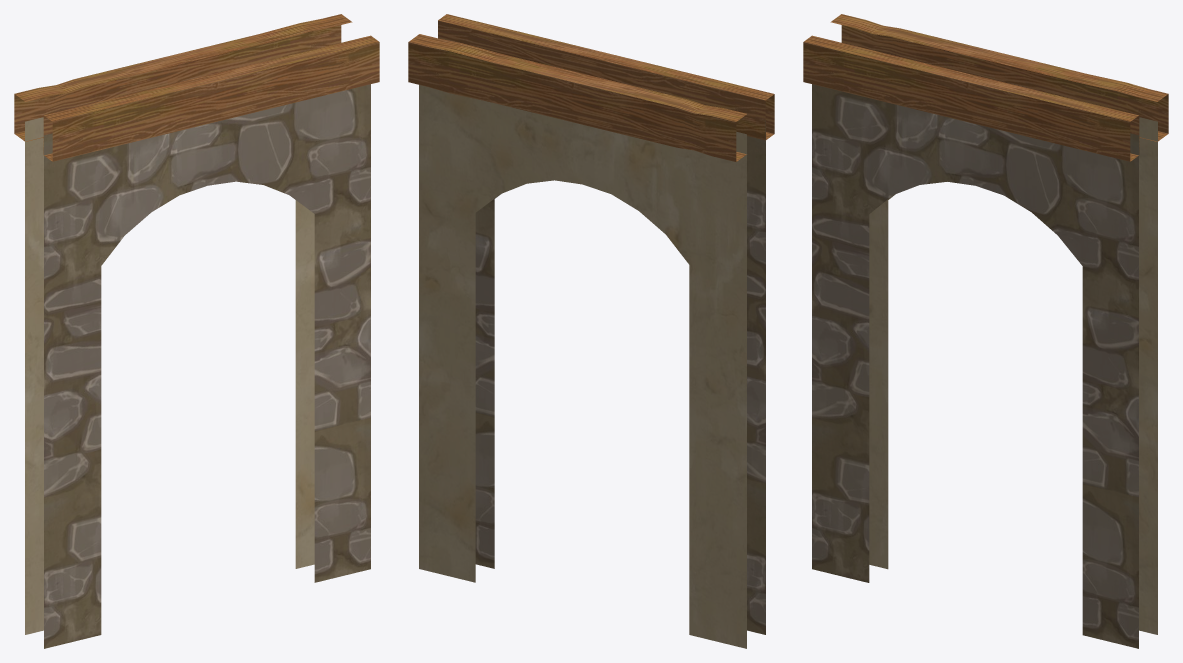
The model's file is wall_brick_door.glb.
The picture shows the model from 3 angles, left to right: view 1: azimuth 30°, elevation 25°; view 2: azimuth 150°, elevation 25°; view 3: azimuth 330°, elevation 25°; orthographic projection.
Visible parts, largest first — view 1: Wall_UnevenBrick_Door_Round; view 2: Wall_UnevenBrick_Door_Round; view 3: Wall_UnevenBrick_Door_Round.
Part boxes in pixels (<box>): Wall_UnevenBrick_Door_Round: <box>14,14,379,648</box>; Wall_UnevenBrick_Door_Round: <box>408,14,774,648</box>; Wall_UnevenBrick_Door_Round: <box>803,14,1168,648</box>.
Bounding box in the file's own units: 2 × 3.12 × 0.4064.
3 materials, 3 textured.
